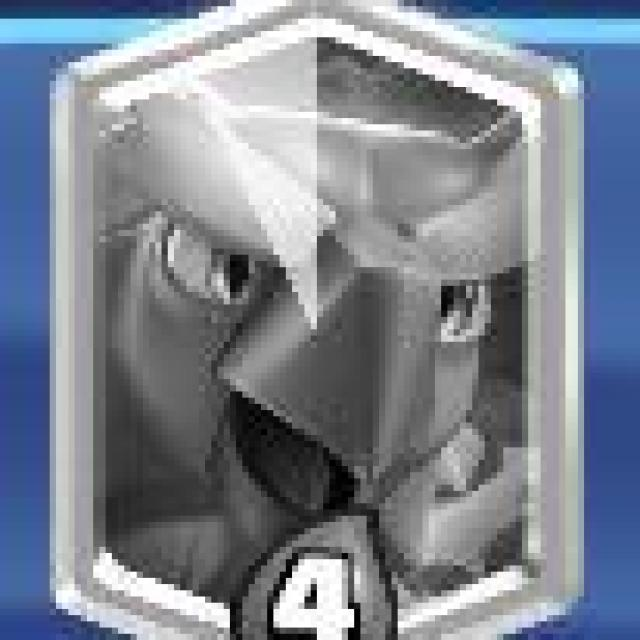Phoenix: (51, 2, 586, 640)
